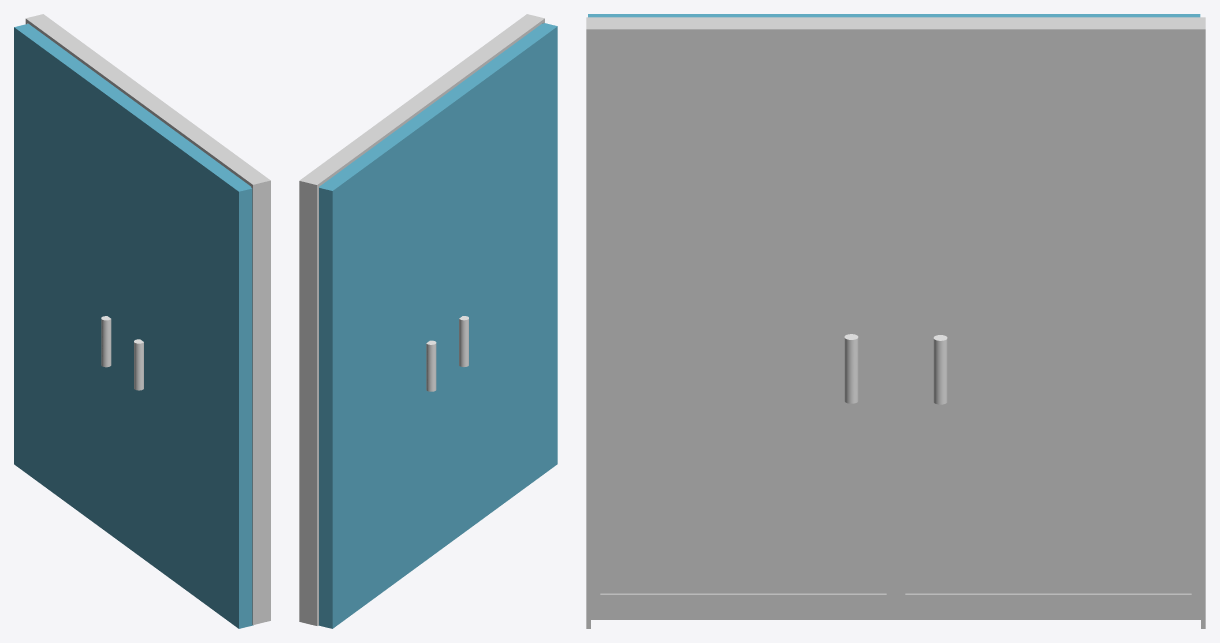
Rendered from Door.fbx.
The picture shows the model from 3 angles, left to right: view 1: azimuth 30°, elevation 25°; view 2: azimuth 150°, elevation 25°; view 3: azimuth 270°, elevation 25°; orthographic projection. The views are drawn at different scales.
Visible parts, largest first — view 1: Box1171, Box1172, Cua chinh, Tay nam cua 017, Tay nam cua 12; view 2: Box1172, Box1171, Cua chinh, Tay nam cua 017, Tay nam cua 12; view 3: Cua chinh, Box1172, Box1171, Tay nam cua 11, Tay nam cua 016.
Boxes of the visible parts, x1,y1,x2,y2 form: Box1171: (126, 106, 253, 628); Box1172: (14, 23, 140, 545); Cua chinh: (25, 14, 270, 624); Tay nam cua 017: (101, 316, 111, 367); Tay nam cua 12: (134, 339, 143, 390); Box1172: (318, 105, 445, 628); Box1171: (431, 23, 557, 545); Cua chinh: (299, 14, 544, 625); Tay nam cua 017: (426, 340, 436, 391); Tay nam cua 12: (459, 316, 468, 366); Cua chinh: (586, 17, 1205, 628); Box1172: (894, 14, 1200, 17); Box1171: (588, 14, 893, 17); Tay nam cua 11: (844, 334, 858, 403); Tay nam cua 016: (933, 335, 947, 404).
Bounding box in the file's own units: 32 × 283 × 264.
